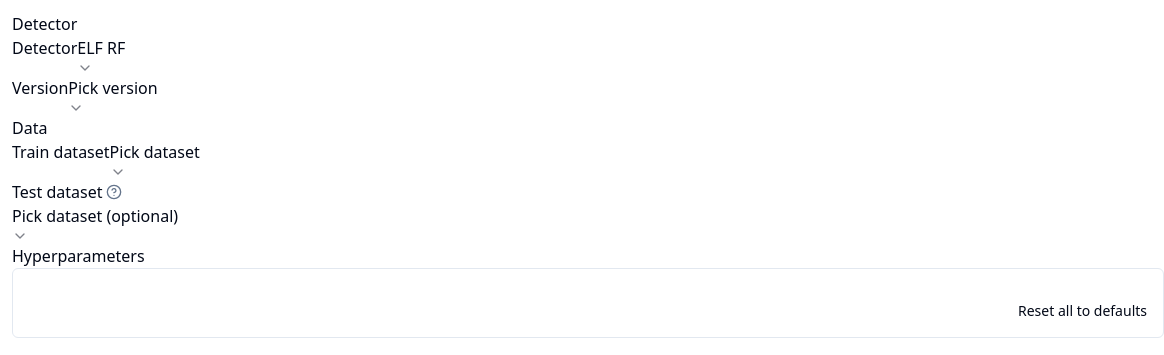
it: TrainSubForm › version filter (L104-110) › only renders versions whose status === 'active' in the Version combobox
The width and height of the screenshot is (1164, 355).
What coordinates should you click on to do the following:
click the dropdown labelled "Pick version"
I would click on:
 (113, 96)
Its box is 68,76 -> 158,116.
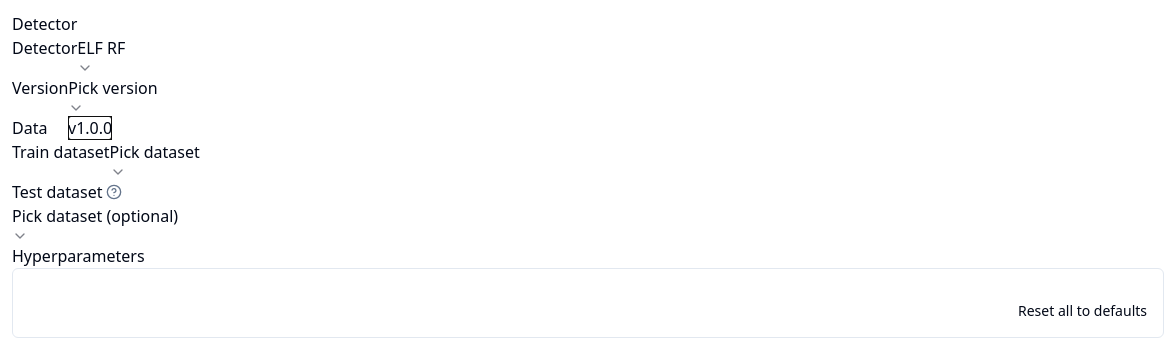
Expected: the option "v1.0.0" is shown, 68,116 -> 112,140
